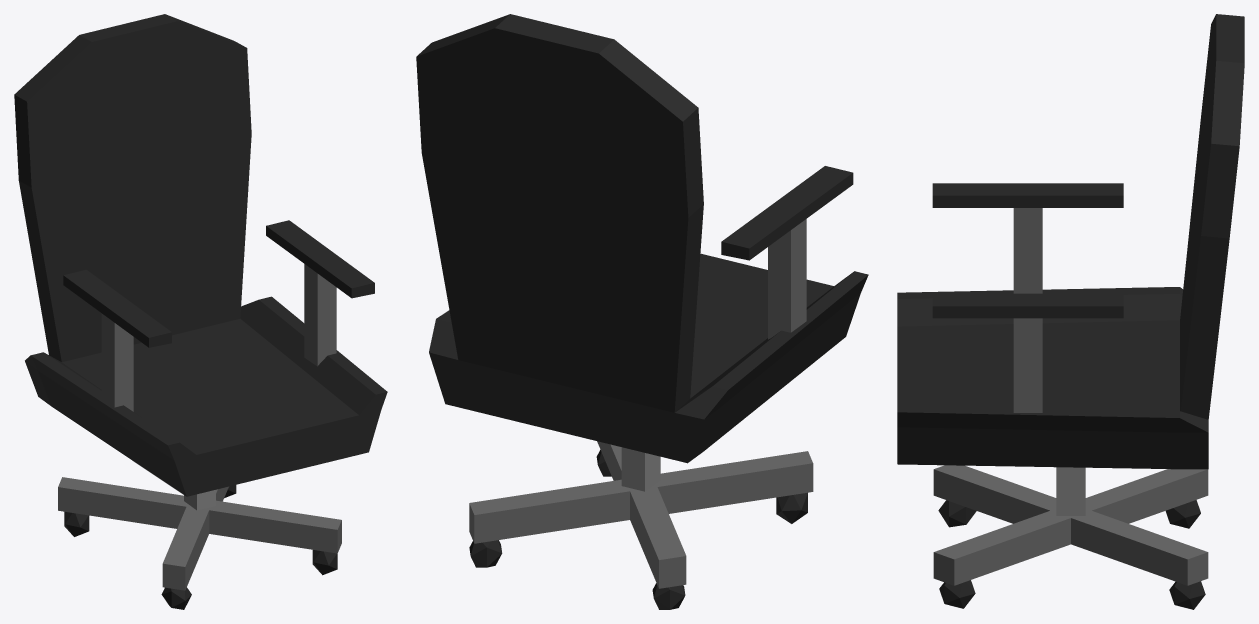
The model's file is Chair_Dark.fbx.
3 views of the same model, side by side, from view 1: azimuth 30°, elevation 25°; view 2: azimuth 150°, elevation 25°; view 3: azimuth 270°, elevation 25° (orthographic). The views are drawn at different scales.
Visible parts, largest first — view 1: Chair_Dark; view 2: Chair_Dark; view 3: Chair_Dark.
Part boxes in pixels (x1=…): Chair_Dark: x1=14, y1=14, x2=387, y2=609; Chair_Dark: x1=416, y1=14, x2=868, y2=609; Chair_Dark: x1=897, y1=14, x2=1244, y2=609.
Size of the model in its own units: 52.6 by 98.72 by 58.86.
